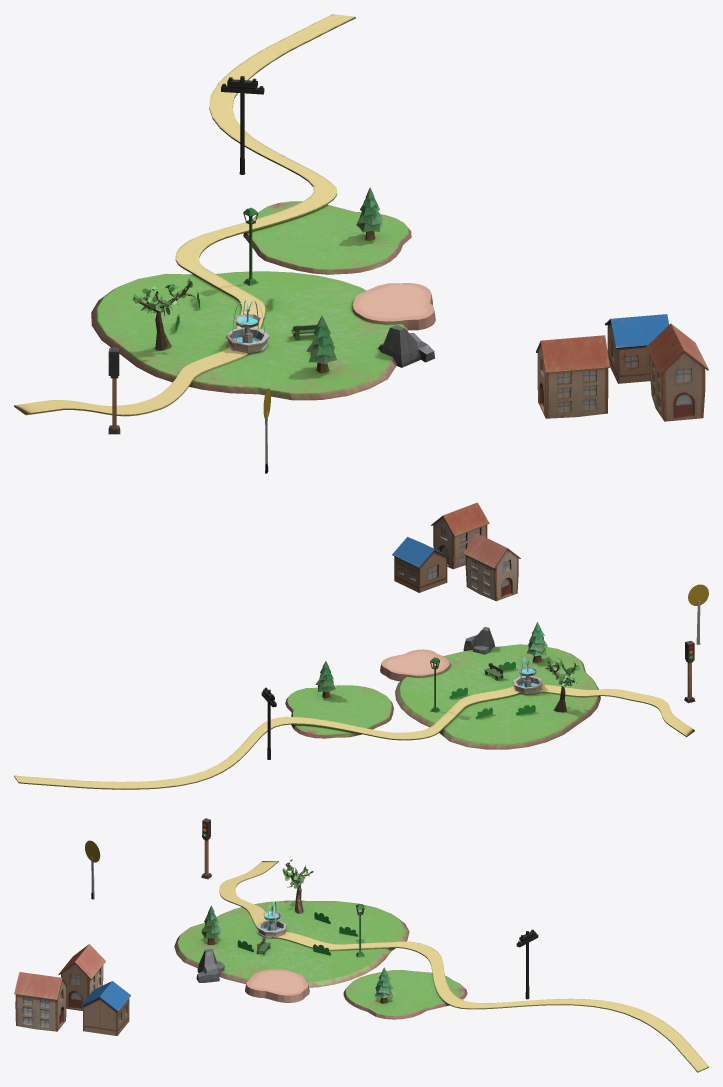
Rendered from garden.glb.
The picture shows the model from 3 angles, top to bottom: view 1: azimuth 30°, elevation 25°; view 2: azimuth 150°, elevation 25°; view 3: azimuth 270°, elevation 25°; orthographic projection. The views are drawn at different scales.
Parts seen in each view (by area): view 1: GARDEN-SIDE; view 2: GARDEN-SIDE; view 3: GARDEN-SIDE.
Boxes of the visible parts, x1=… form: GARDEN-SIDE: x1=14, y1=14, x2=708, y2=473; GARDEN-SIDE: x1=14, y1=502, x2=708, y2=789; GARDEN-SIDE: x1=14, y1=818, x2=708, y2=1072.
Bounding box in the file's own units: 69.5 × 10.14 × 93.9.
Materials: 2 (1 with a texture image).
